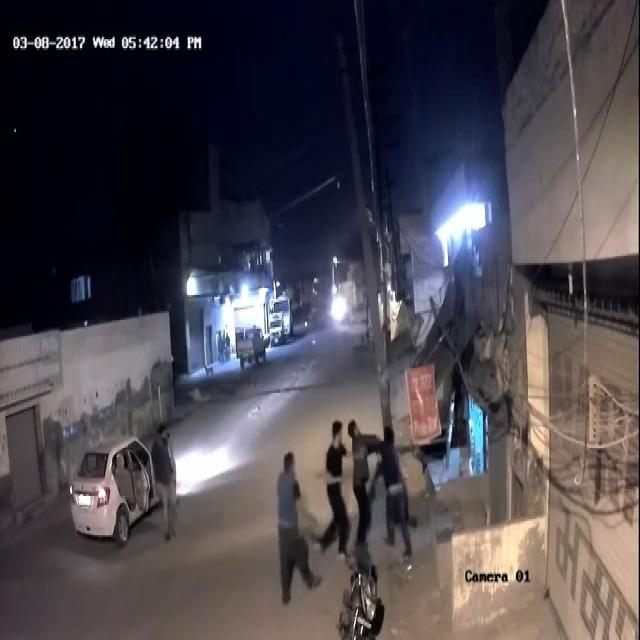fight: (349, 418, 416, 564)
